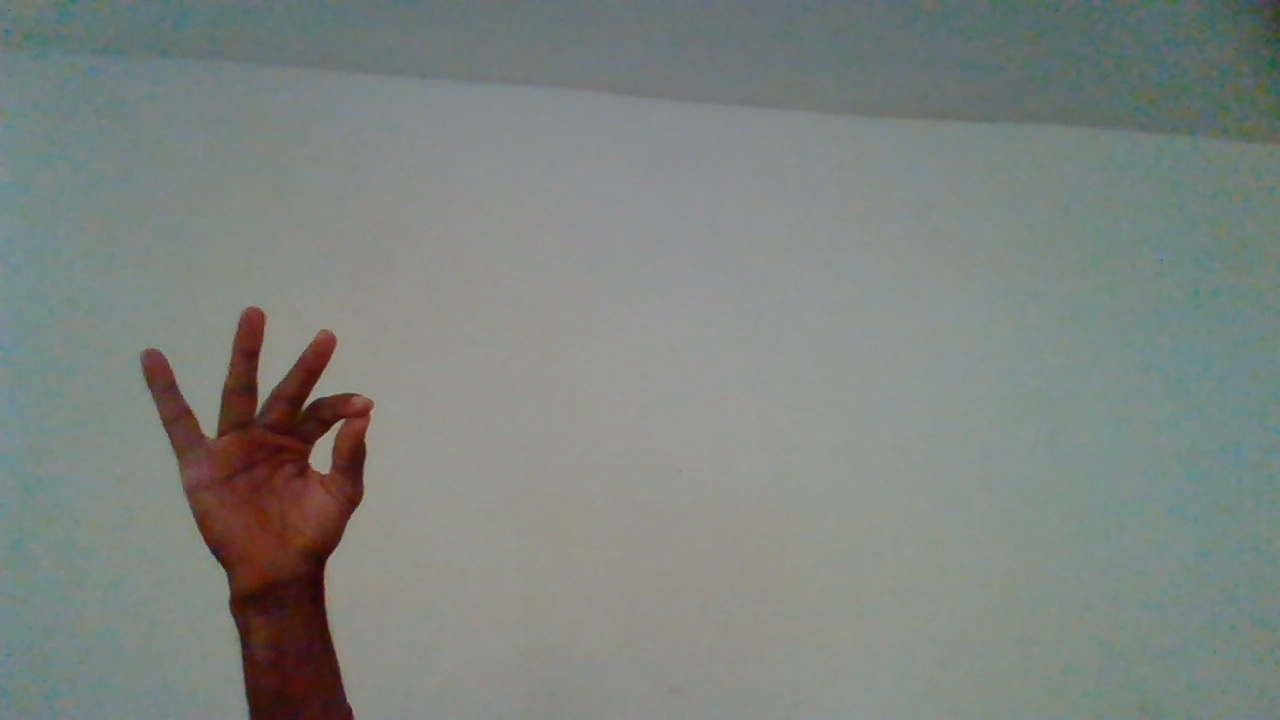le: (134, 307, 374, 708)
